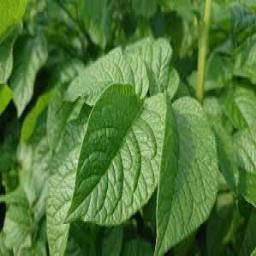Leaf: (61, 82, 167, 226), (153, 91, 217, 256), (61, 46, 135, 106)
